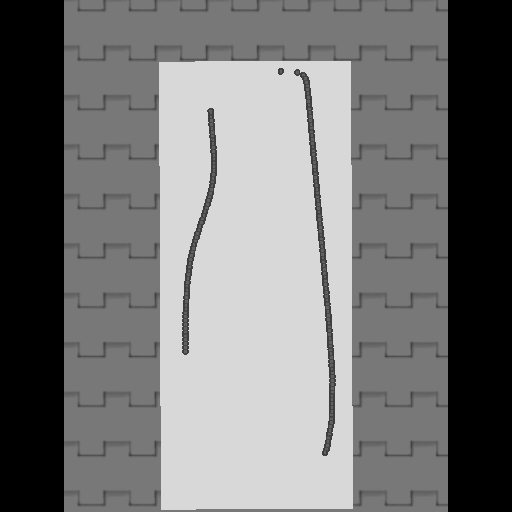Defect: (179, 350, 331, 488)
